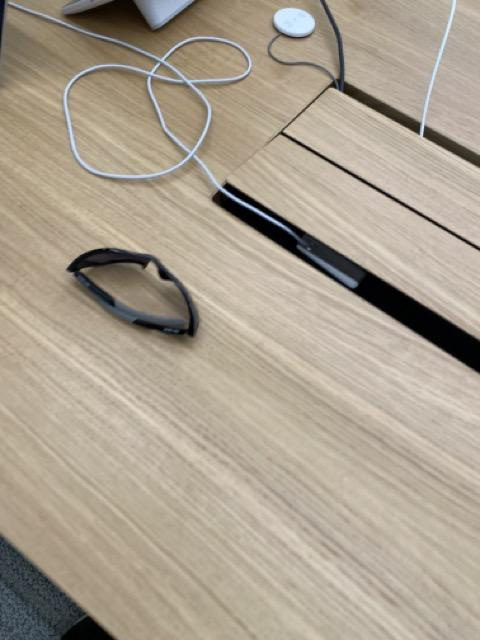Sunglasses: (65, 246, 199, 339)
